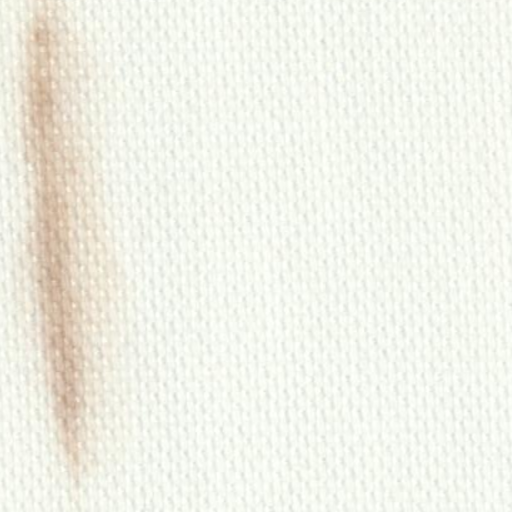WuZi: (12, 6, 152, 490)
